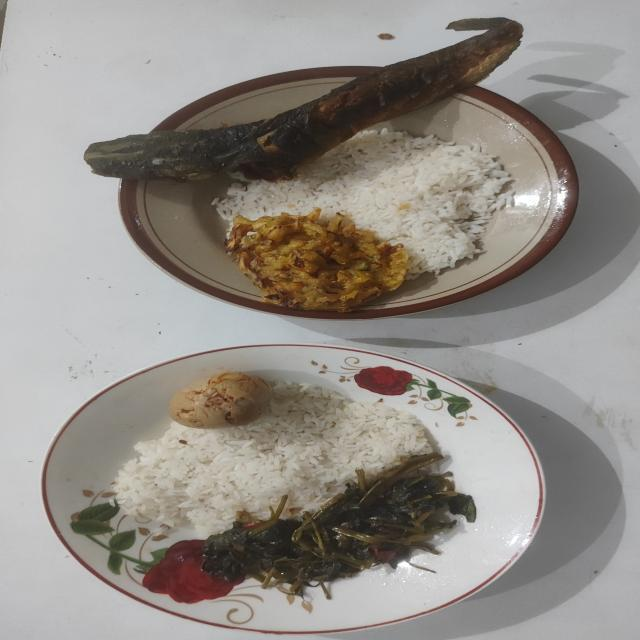nasi_putih: (113, 380, 433, 536), (212, 128, 516, 279)
tumis_kangkung: (202, 453, 476, 599)
